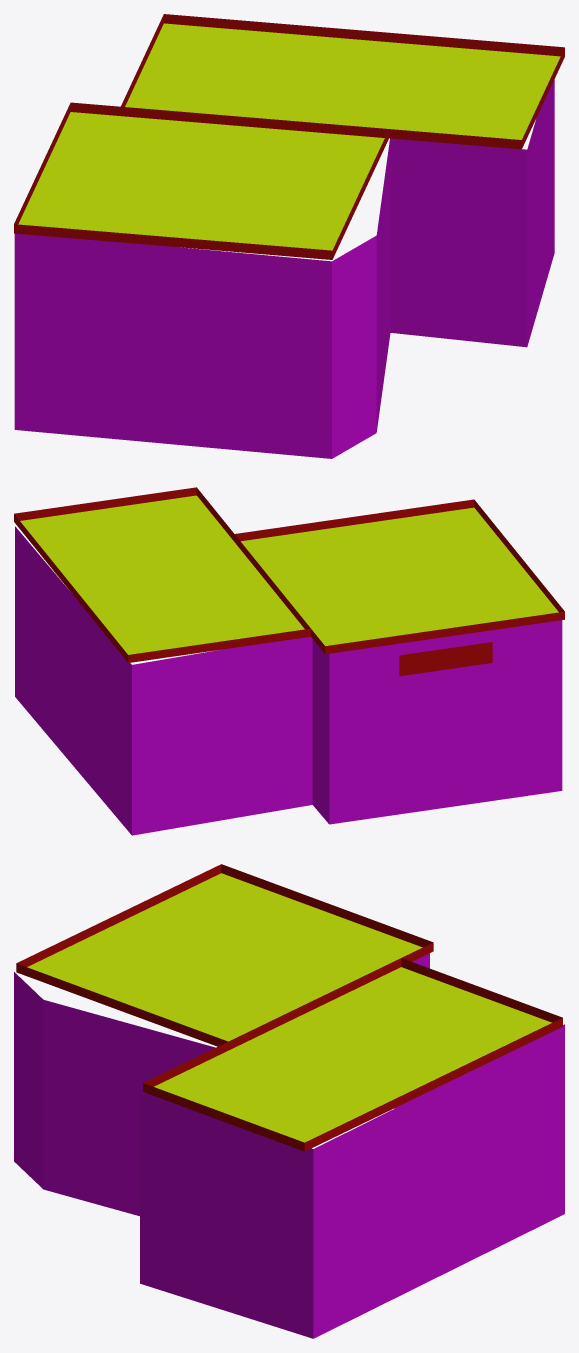
The model's file is ssv_9.glb.
3 views of the same model, one above another, from view 1: azimuth 30°, elevation 25°; view 2: azimuth 150°, elevation 25°; view 3: azimuth 270°, elevation 25° (orthographic). The views are drawn at different scales.
Visible parts, largest first — view 1: ssv_9; view 2: ssv_9; view 3: ssv_9.
Part boxes in pixels (left/top/right/bottom): ssv_9: left=14, top=14, right=564, bottom=458; ssv_9: left=14, top=487, right=564, bottom=835; ssv_9: left=14, top=864, right=564, bottom=1338.
Size of the model in its own units: 23.08 by 7.69 by 19.3.
